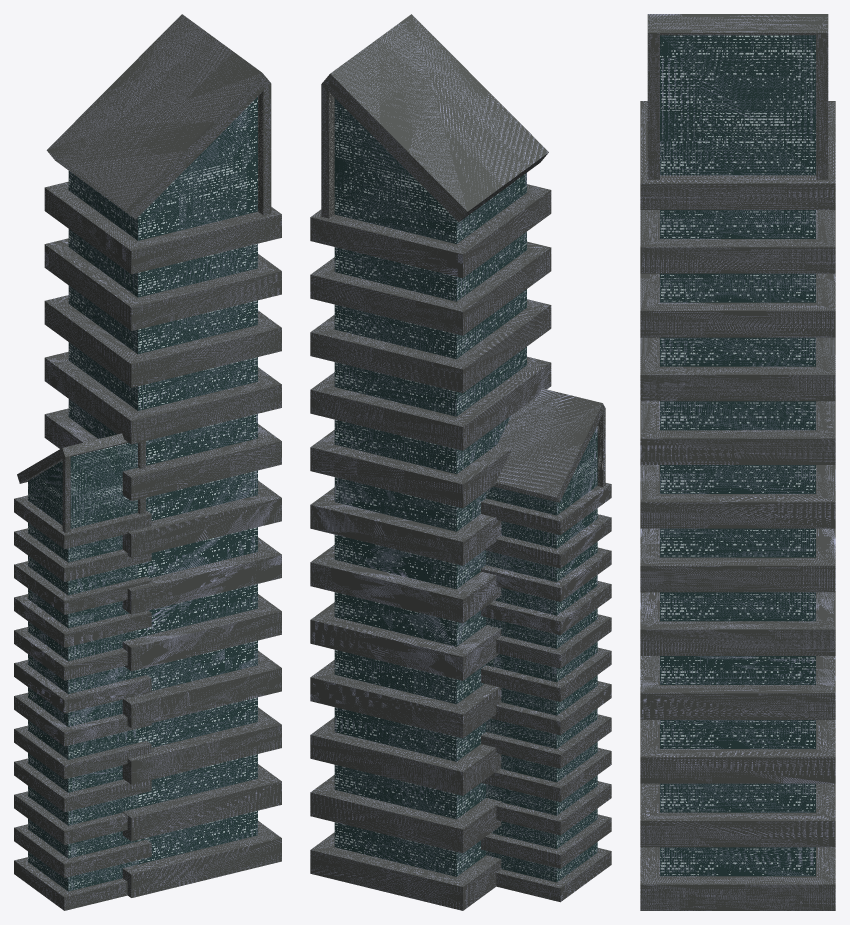
The model's file is building2.dae.
The picture shows the model from 3 angles, left to right: view 1: azimuth 30°, elevation 25°; view 2: azimuth 150°, elevation 25°; view 3: azimuth 270°, elevation 25°; orthographic projection. The views are drawn at different scales.
Parts seen in each view (by area): view 1: Component_1 (×44), Component_2 (×6); view 2: Component_1 (×44), Component_2 (×6); view 3: Component_1 (×22), Component_2 (×3).
Part boxes in pixels (x1=…): Component_1 (×44): x1=14, y1=229, x2=281, y2=910; Component_2 (×6): x1=14, y1=14, x2=281, y2=548; Component_1 (×44): x1=310, y1=232, x2=611, y2=910; Component_2 (×6): x1=310, y1=14, x2=611, y2=535; Component_1 (×22): x1=640, y1=210, x2=835, y2=910; Component_2 (×3): x1=640, y1=14, x2=835, y2=209.
Bounding box in the file's own units: 112 × 78.74 × 395.
Materials: 4 (1 with a texture image).
